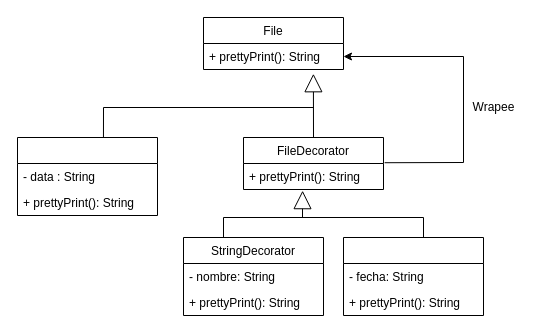
Image size: 541x336. Some labels were removed from this diagram. Here are the shapes that lost their labels. From the top down, the box of each, then its label:
(16, 136, 158, 216): FileData
(342, 236, 484, 316): DateDecorator
